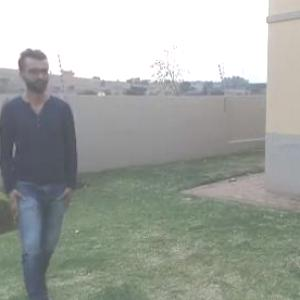follow: (14, 40, 91, 299)
